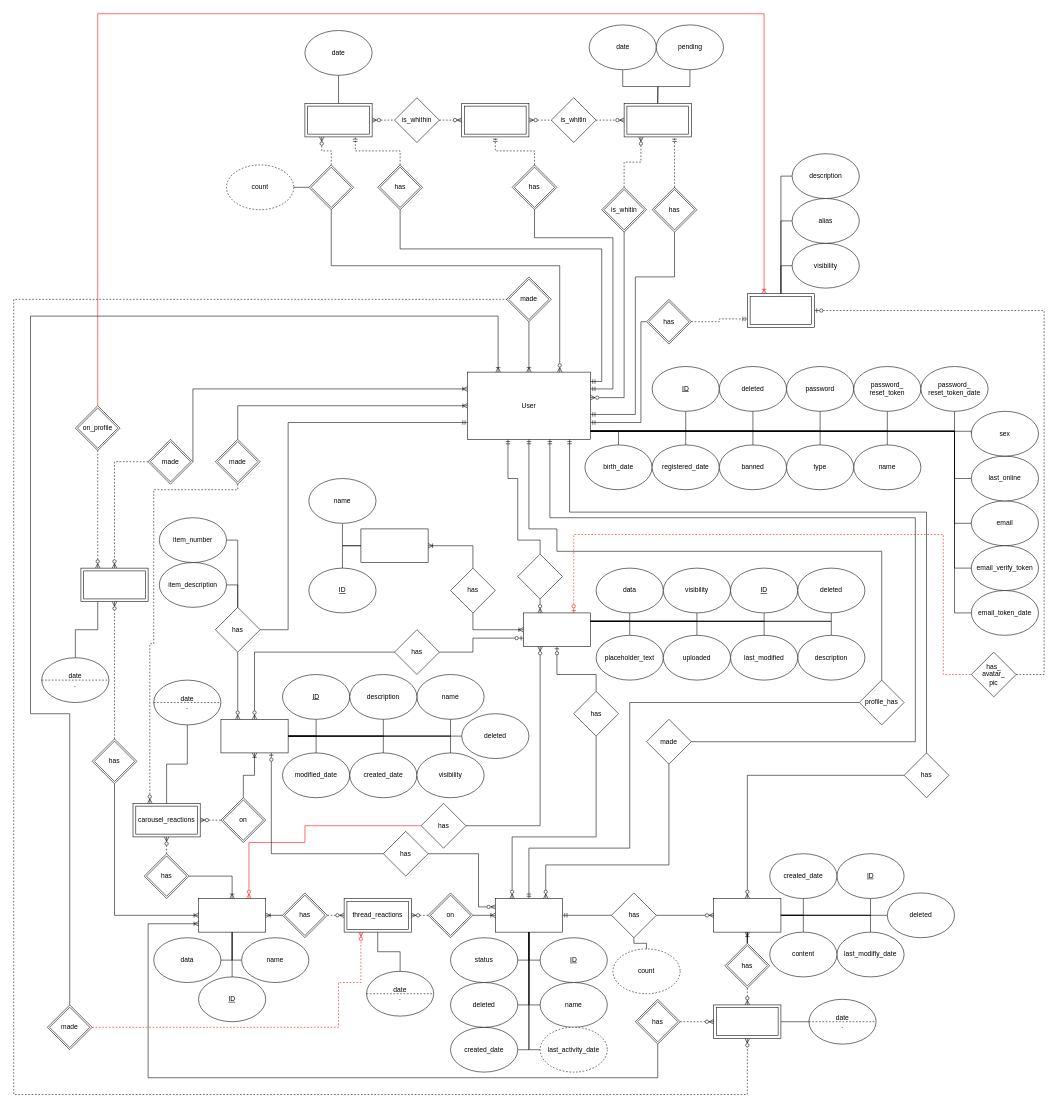
Some shapes in this 1058 by 1109 pixel diagram are drawn without their labels. Here are the shapes that lost their labels. From the top down, the box of each, then its label:
(304, 103, 372, 137): followed_list
(461, 103, 529, 137): activity_feed
(624, 103, 691, 137): friends_list
(308, 164, 354, 210): is_whihin
(747, 293, 815, 327): profile
(360, 528, 428, 563): tag
(80, 568, 148, 602): user_ reactions
(517, 554, 563, 599): uploads
(523, 612, 591, 647): media
(220, 719, 288, 753): carousel
(198, 898, 266, 932): reaction
(495, 898, 563, 932): thread
(713, 898, 781, 932): comment
(713, 1004, 781, 1039): comment_reactions
